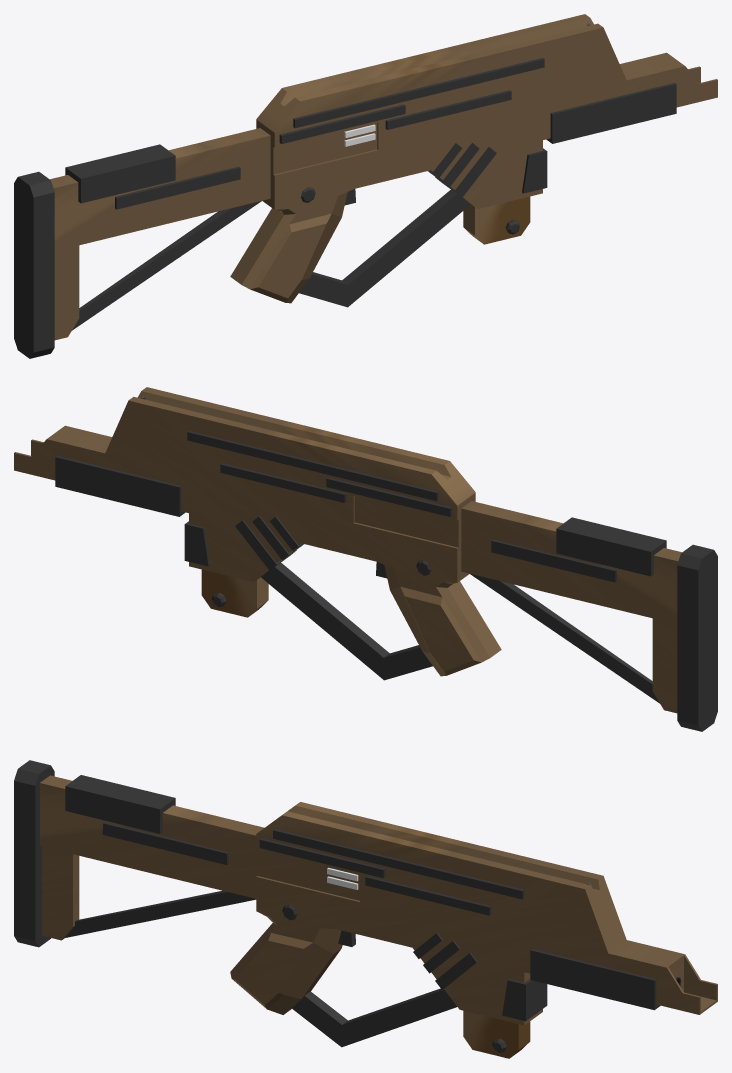
Rendered from Rifle_A_V3.FBX.
The picture shows the model from 3 angles, top to bottom: view 1: azimuth 30°, elevation 25°; view 2: azimuth 150°, elevation 25°; view 3: azimuth 330°, elevation 25°; orthographic projection.
Visible parts, largest first — view 1: Rifle_A_V3, Magazine; view 2: Rifle_A_V3, Magazine; view 3: Rifle_A_V3, Magazine.
Part boxes in pixels (x1,y1,x2,y2): Rifle_A_V3: [14, 14, 717, 358]; Magazine: [463, 196, 530, 244]; Rifle_A_V3: [14, 387, 717, 731]; Magazine: [201, 569, 268, 617]; Rifle_A_V3: [14, 760, 717, 1047]; Magazine: [463, 1010, 530, 1058].
Size of the model in its own units: 396 by 123 by 23.39.
